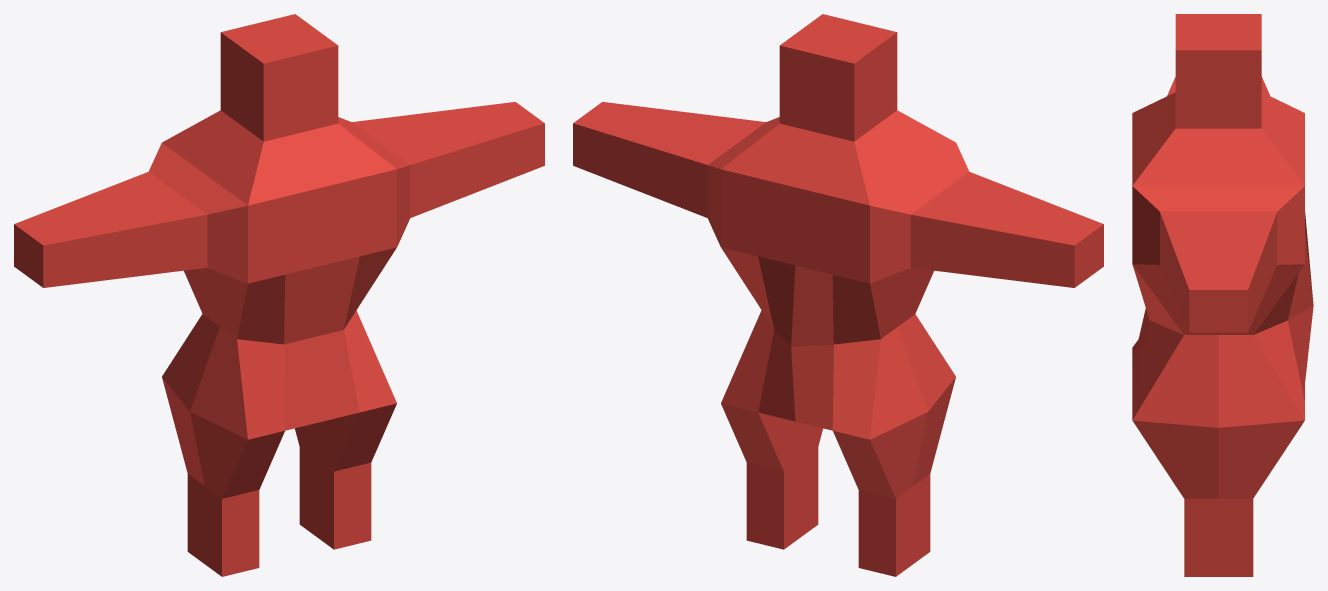
The model's file is DummyEnemy.fbx.
3 views of the same model, side by side, from view 1: azimuth 30°, elevation 25°; view 2: azimuth 150°, elevation 25°; view 3: azimuth 270°, elevation 25° (orthographic).
Visible parts, largest first — view 1: Cube; view 2: Cube; view 3: Cube.
Part boxes in pixels (x1,y1,x2,y2): Cube: (14,14,544,576); Cube: (573,14,1103,576); Cube: (1132,14,1313,576).
Size of the model in its own units: 672 by 650 by 210.
